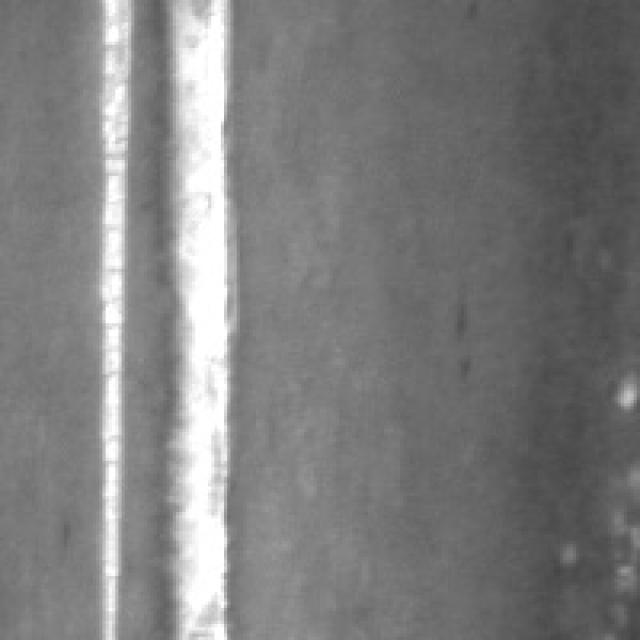inclusion: (438, 272, 480, 384)
scratches: (147, 0, 237, 634), (90, 0, 138, 634)
